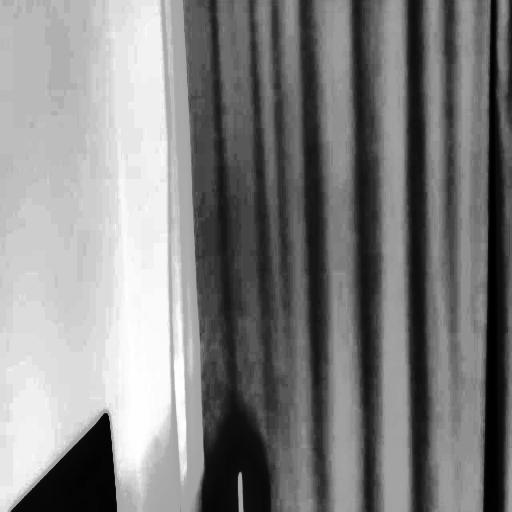balloon: (203, 414, 273, 512)
